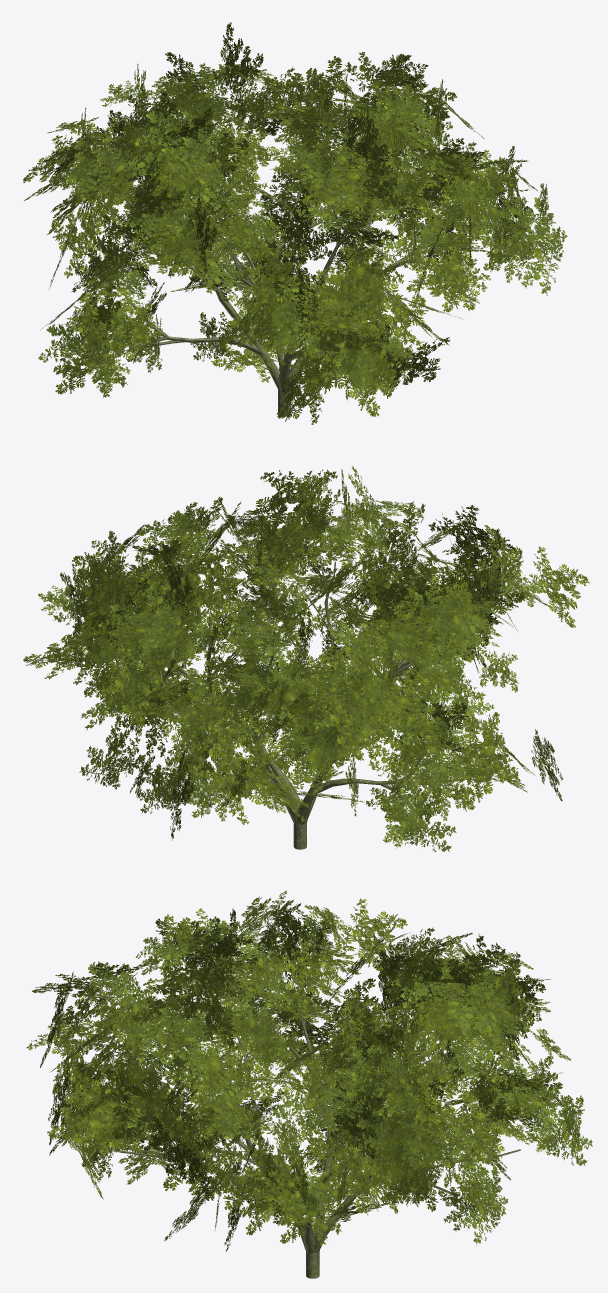
The model's file is Witch_Hazel_Model_0.obj.
3 renders of one model, top to bottom at view 1: azimuth 30°, elevation 25°; view 2: azimuth 150°, elevation 25°; view 3: azimuth 270°, elevation 25°, orthographic. The views are drawn at different scales.
Parts seen in each view (by area): view 1: Foliage; view 2: Foliage; view 3: Foliage.
Part boxes in pixels (x1=…): Foliage: x1=23, y1=22, x2=567, y2=424; Foliage: x1=23, y1=465, x2=589, y2=851; Foliage: x1=26, y1=890, x2=592, y2=1278.
Bounding box in the file's own units: 4.58 × 3 × 4.43.
1 material, 1 textured.
